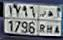1: (5, 4, 13, 33)
6: (28, 6, 35, 34)
7: (14, 5, 21, 33)
9: (20, 4, 28, 34)
A: (55, 10, 61, 35)
H: (46, 9, 54, 35)
R: (39, 10, 46, 33)
